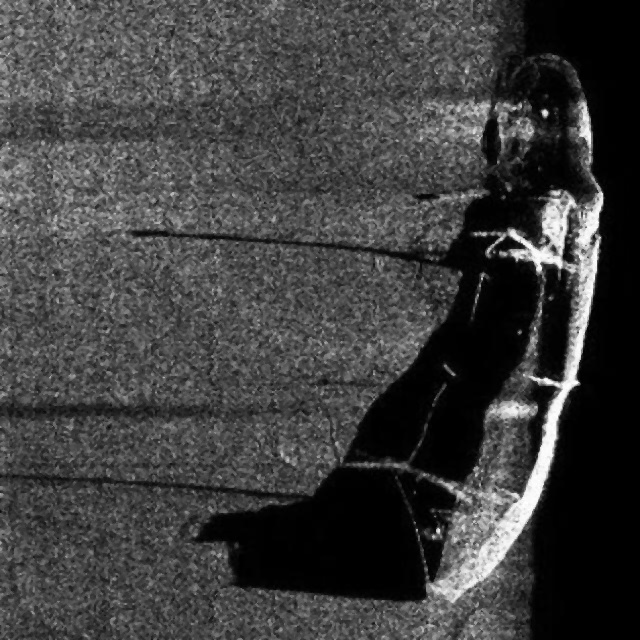Ship: (316, 36, 640, 616)
